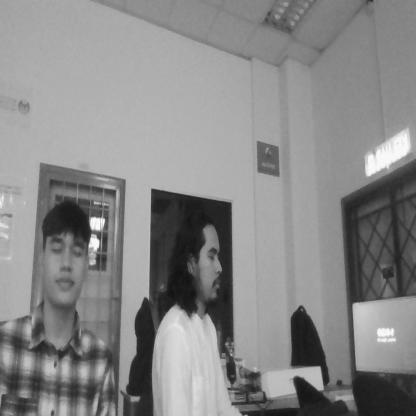Closed-Eyes: (44, 233, 88, 263), (201, 242, 220, 264)
